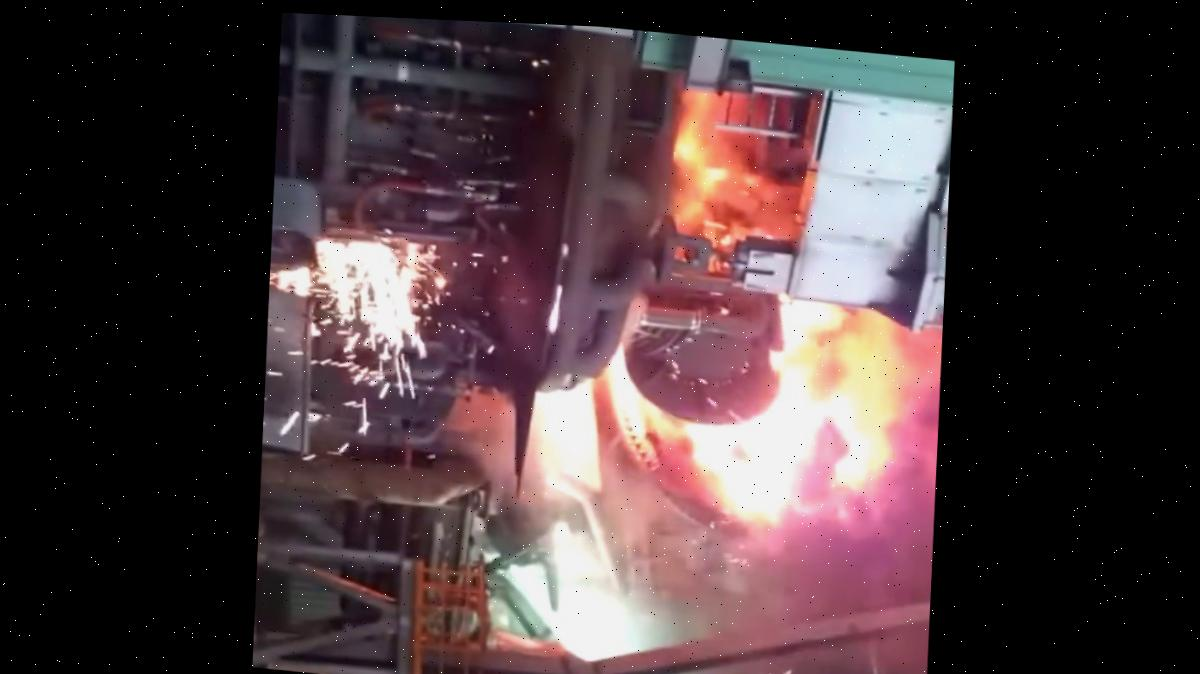fire: (267, 68, 942, 668)
